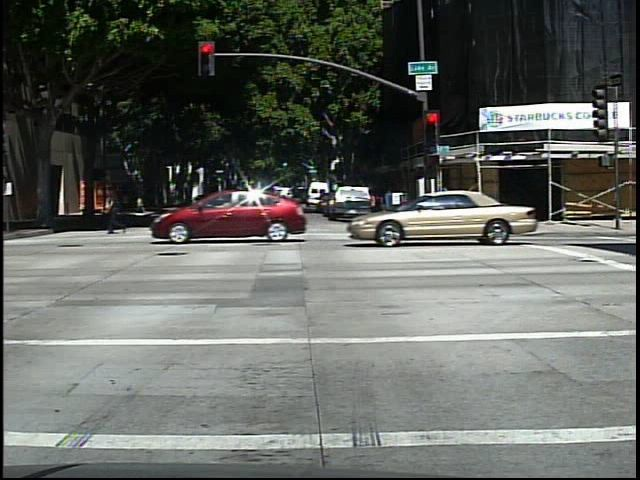person: (99, 184, 128, 236)
